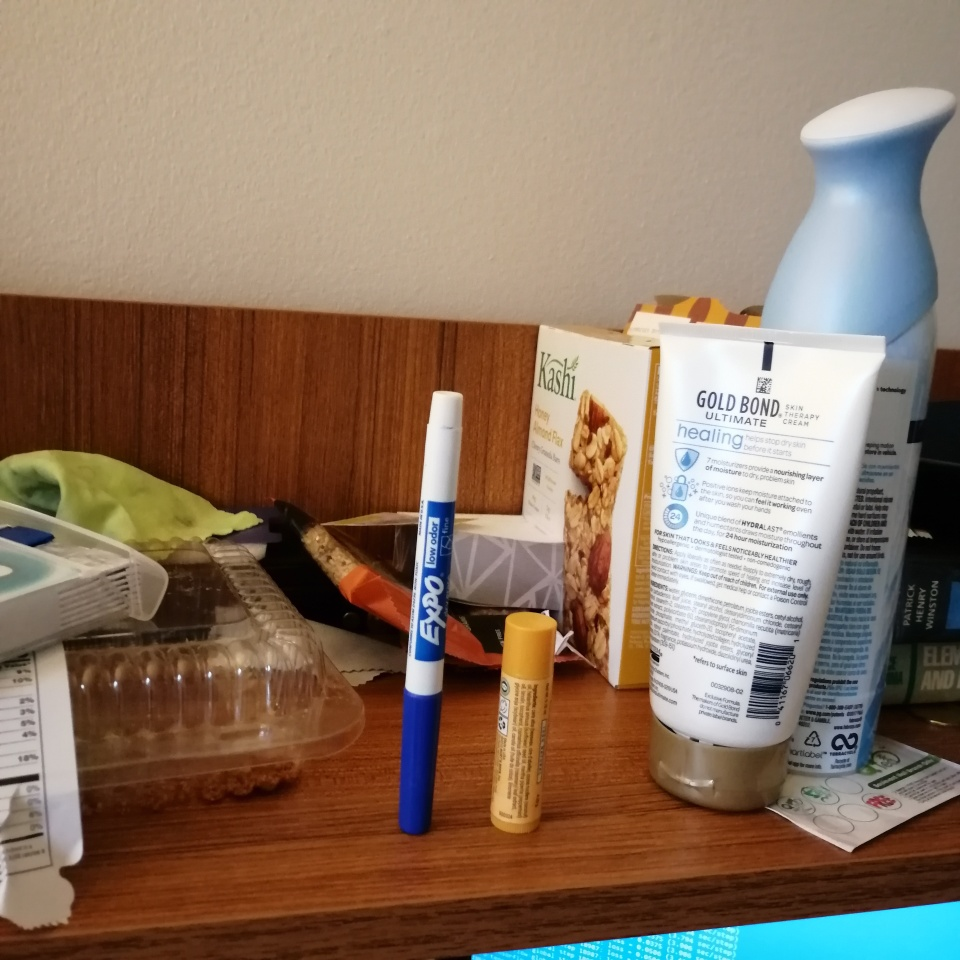chapstick: (490, 611, 557, 833)
